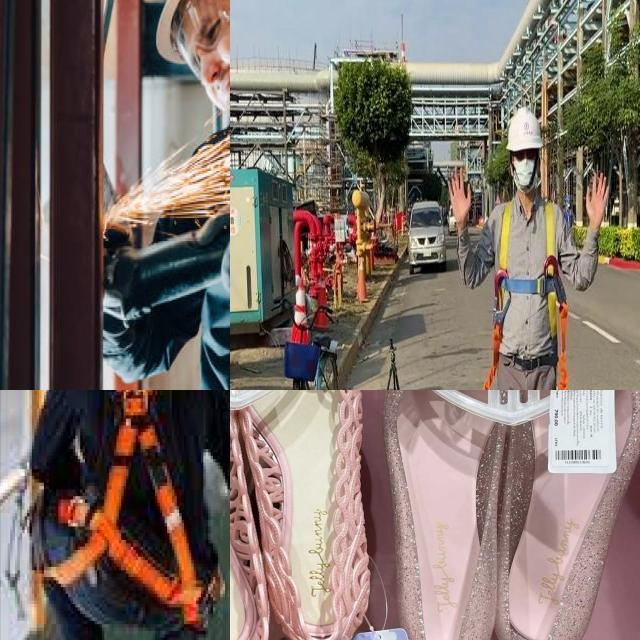Harness: (5, 390, 208, 634), (485, 202, 569, 390)
Sandals: (368, 390, 640, 640), (230, 390, 390, 640)
face_nomask: (200, 24, 230, 117)
glasses: (180, 0, 230, 77), (191, 211, 230, 288)
